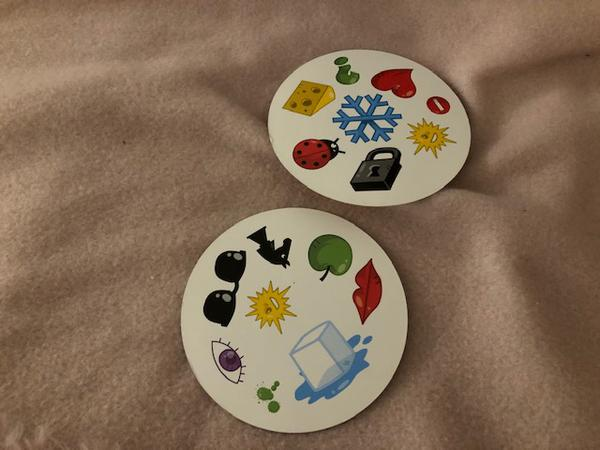bouche: (347, 256, 382, 332)
cadenas: (346, 145, 406, 192)
cheval: (243, 225, 293, 274)
coccinelle: (293, 134, 343, 174)
coeur: (369, 66, 417, 99)
flocon: (329, 90, 402, 147)
fromage: (278, 79, 334, 120)
glacon: (284, 320, 371, 408)
lunette: (201, 249, 247, 329)
oeuil: (207, 333, 250, 388)
point_interrogation: (326, 55, 365, 86)
pomme: (302, 231, 352, 283)
sens_interdit: (423, 92, 451, 118)
soleil: (243, 277, 298, 334), (403, 118, 456, 160)
tache: (252, 374, 286, 419)
